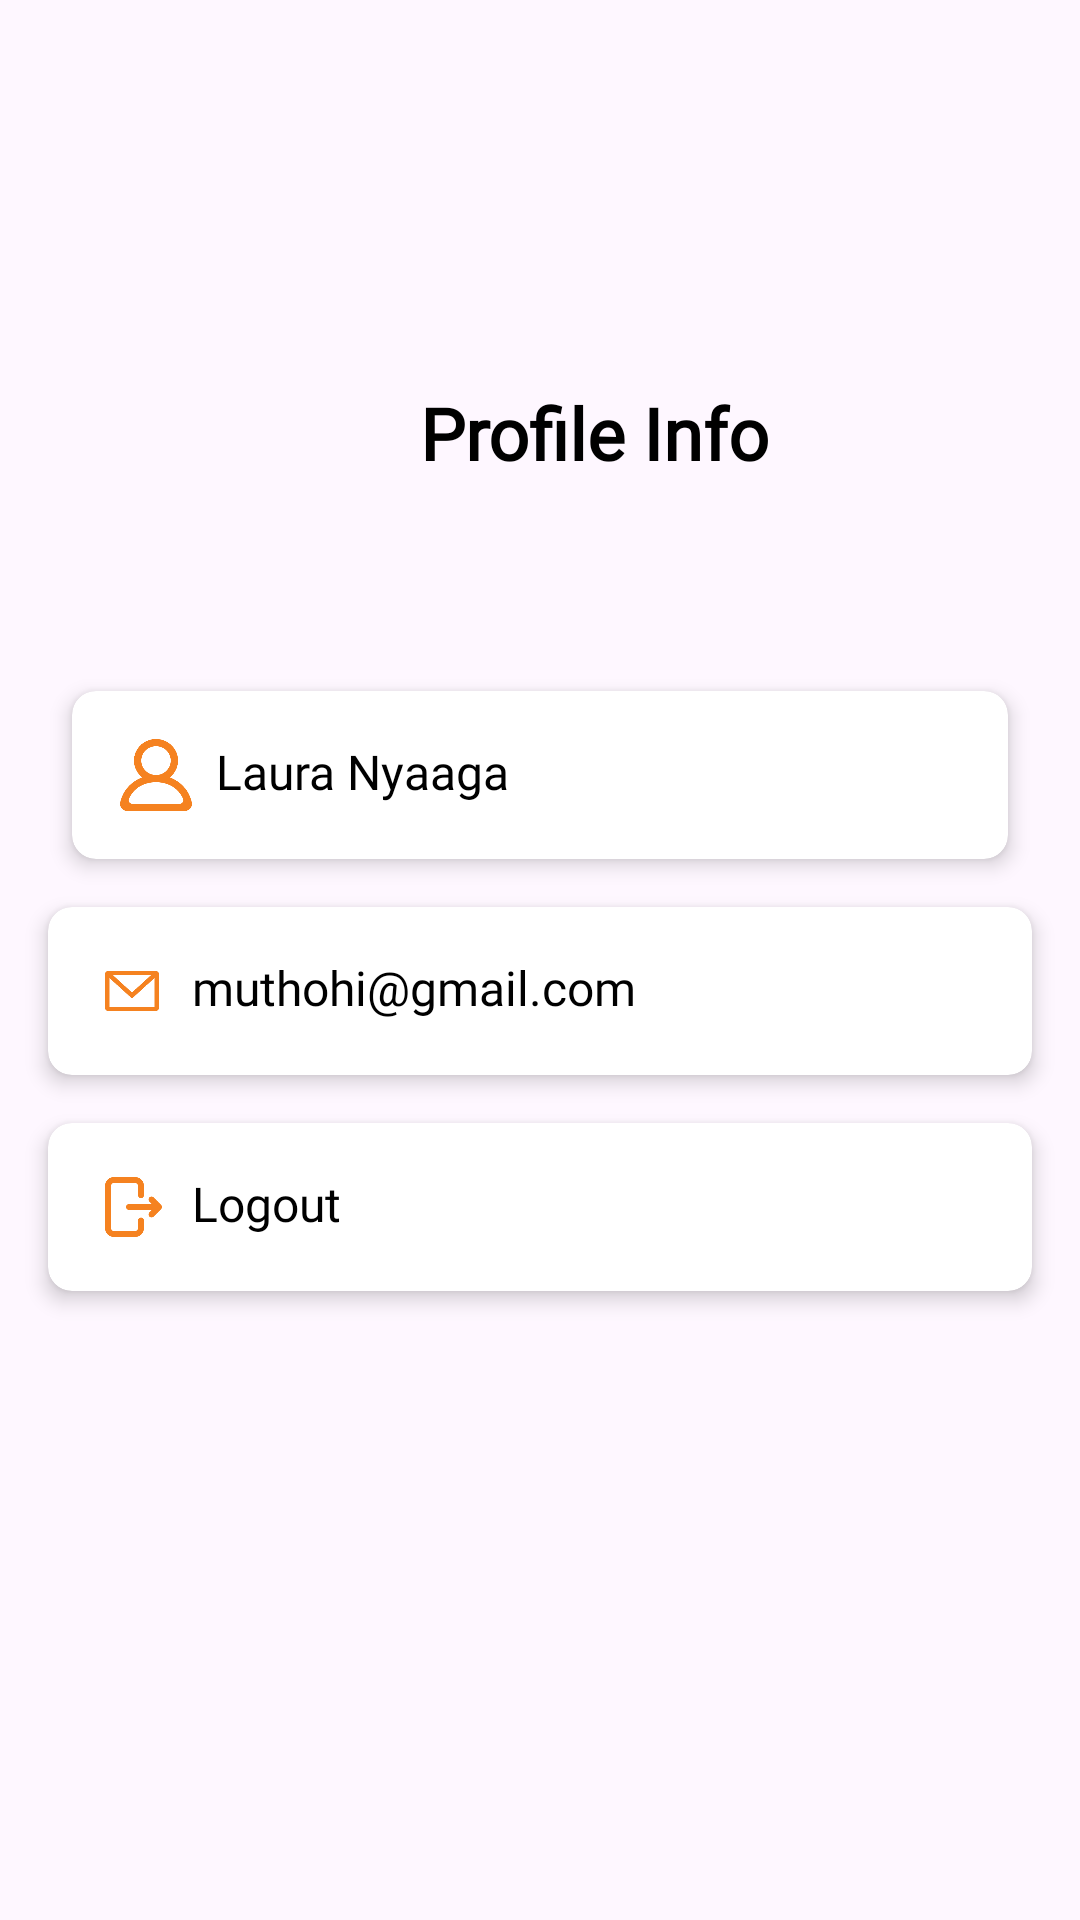

Where to tap for icons on this 1080*1920 app screen, as [x,y]:
email: [132,991]
profile: [156,775]
